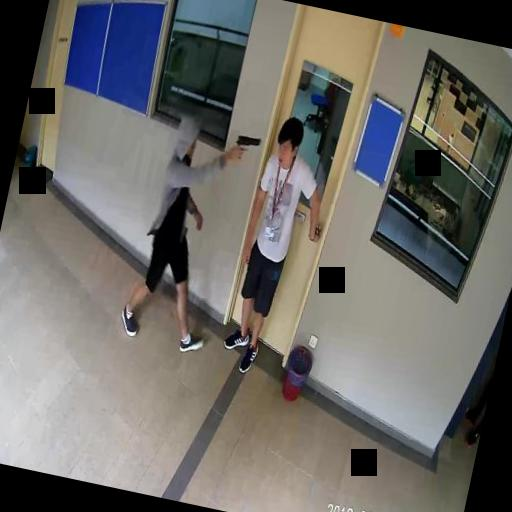Handgun: (233, 132, 260, 164)
